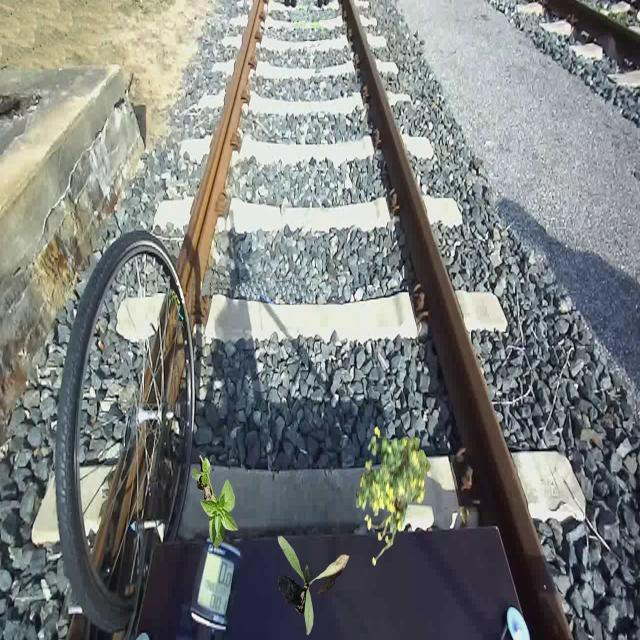Plant: (356, 426, 431, 566), (278, 536, 350, 636), (191, 455, 239, 550)
